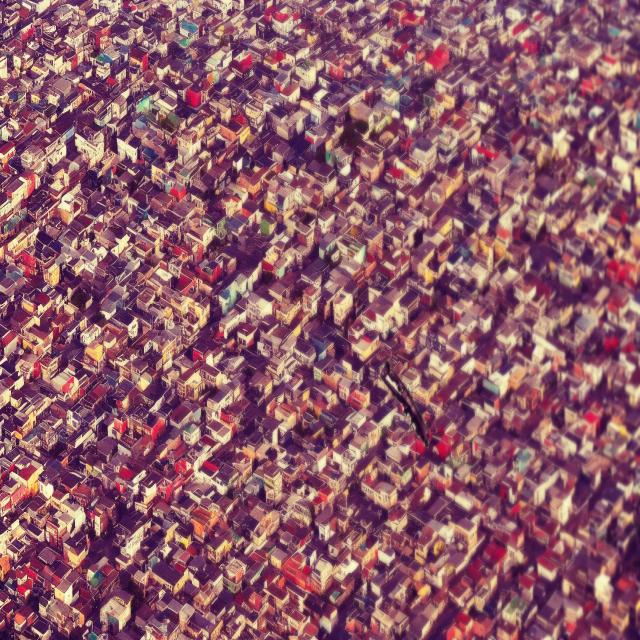airplane: (380, 359, 431, 447)
